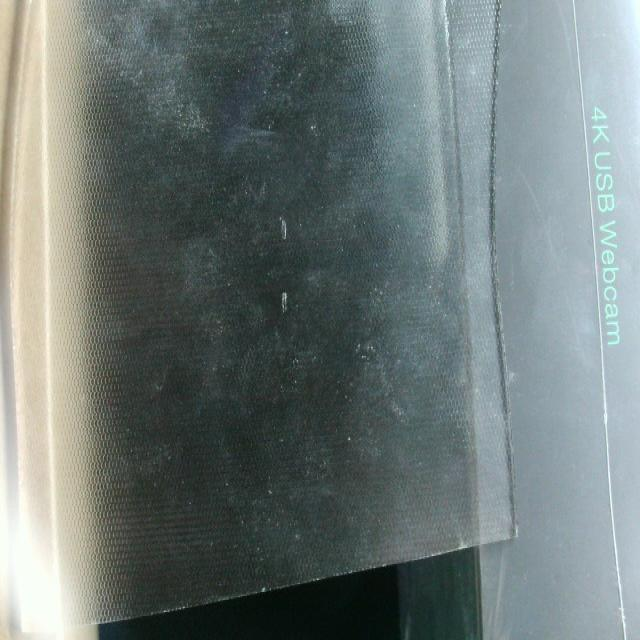uneven edge: (482, 3, 524, 547)
very small scratch: (278, 208, 292, 248), (278, 283, 292, 320)
